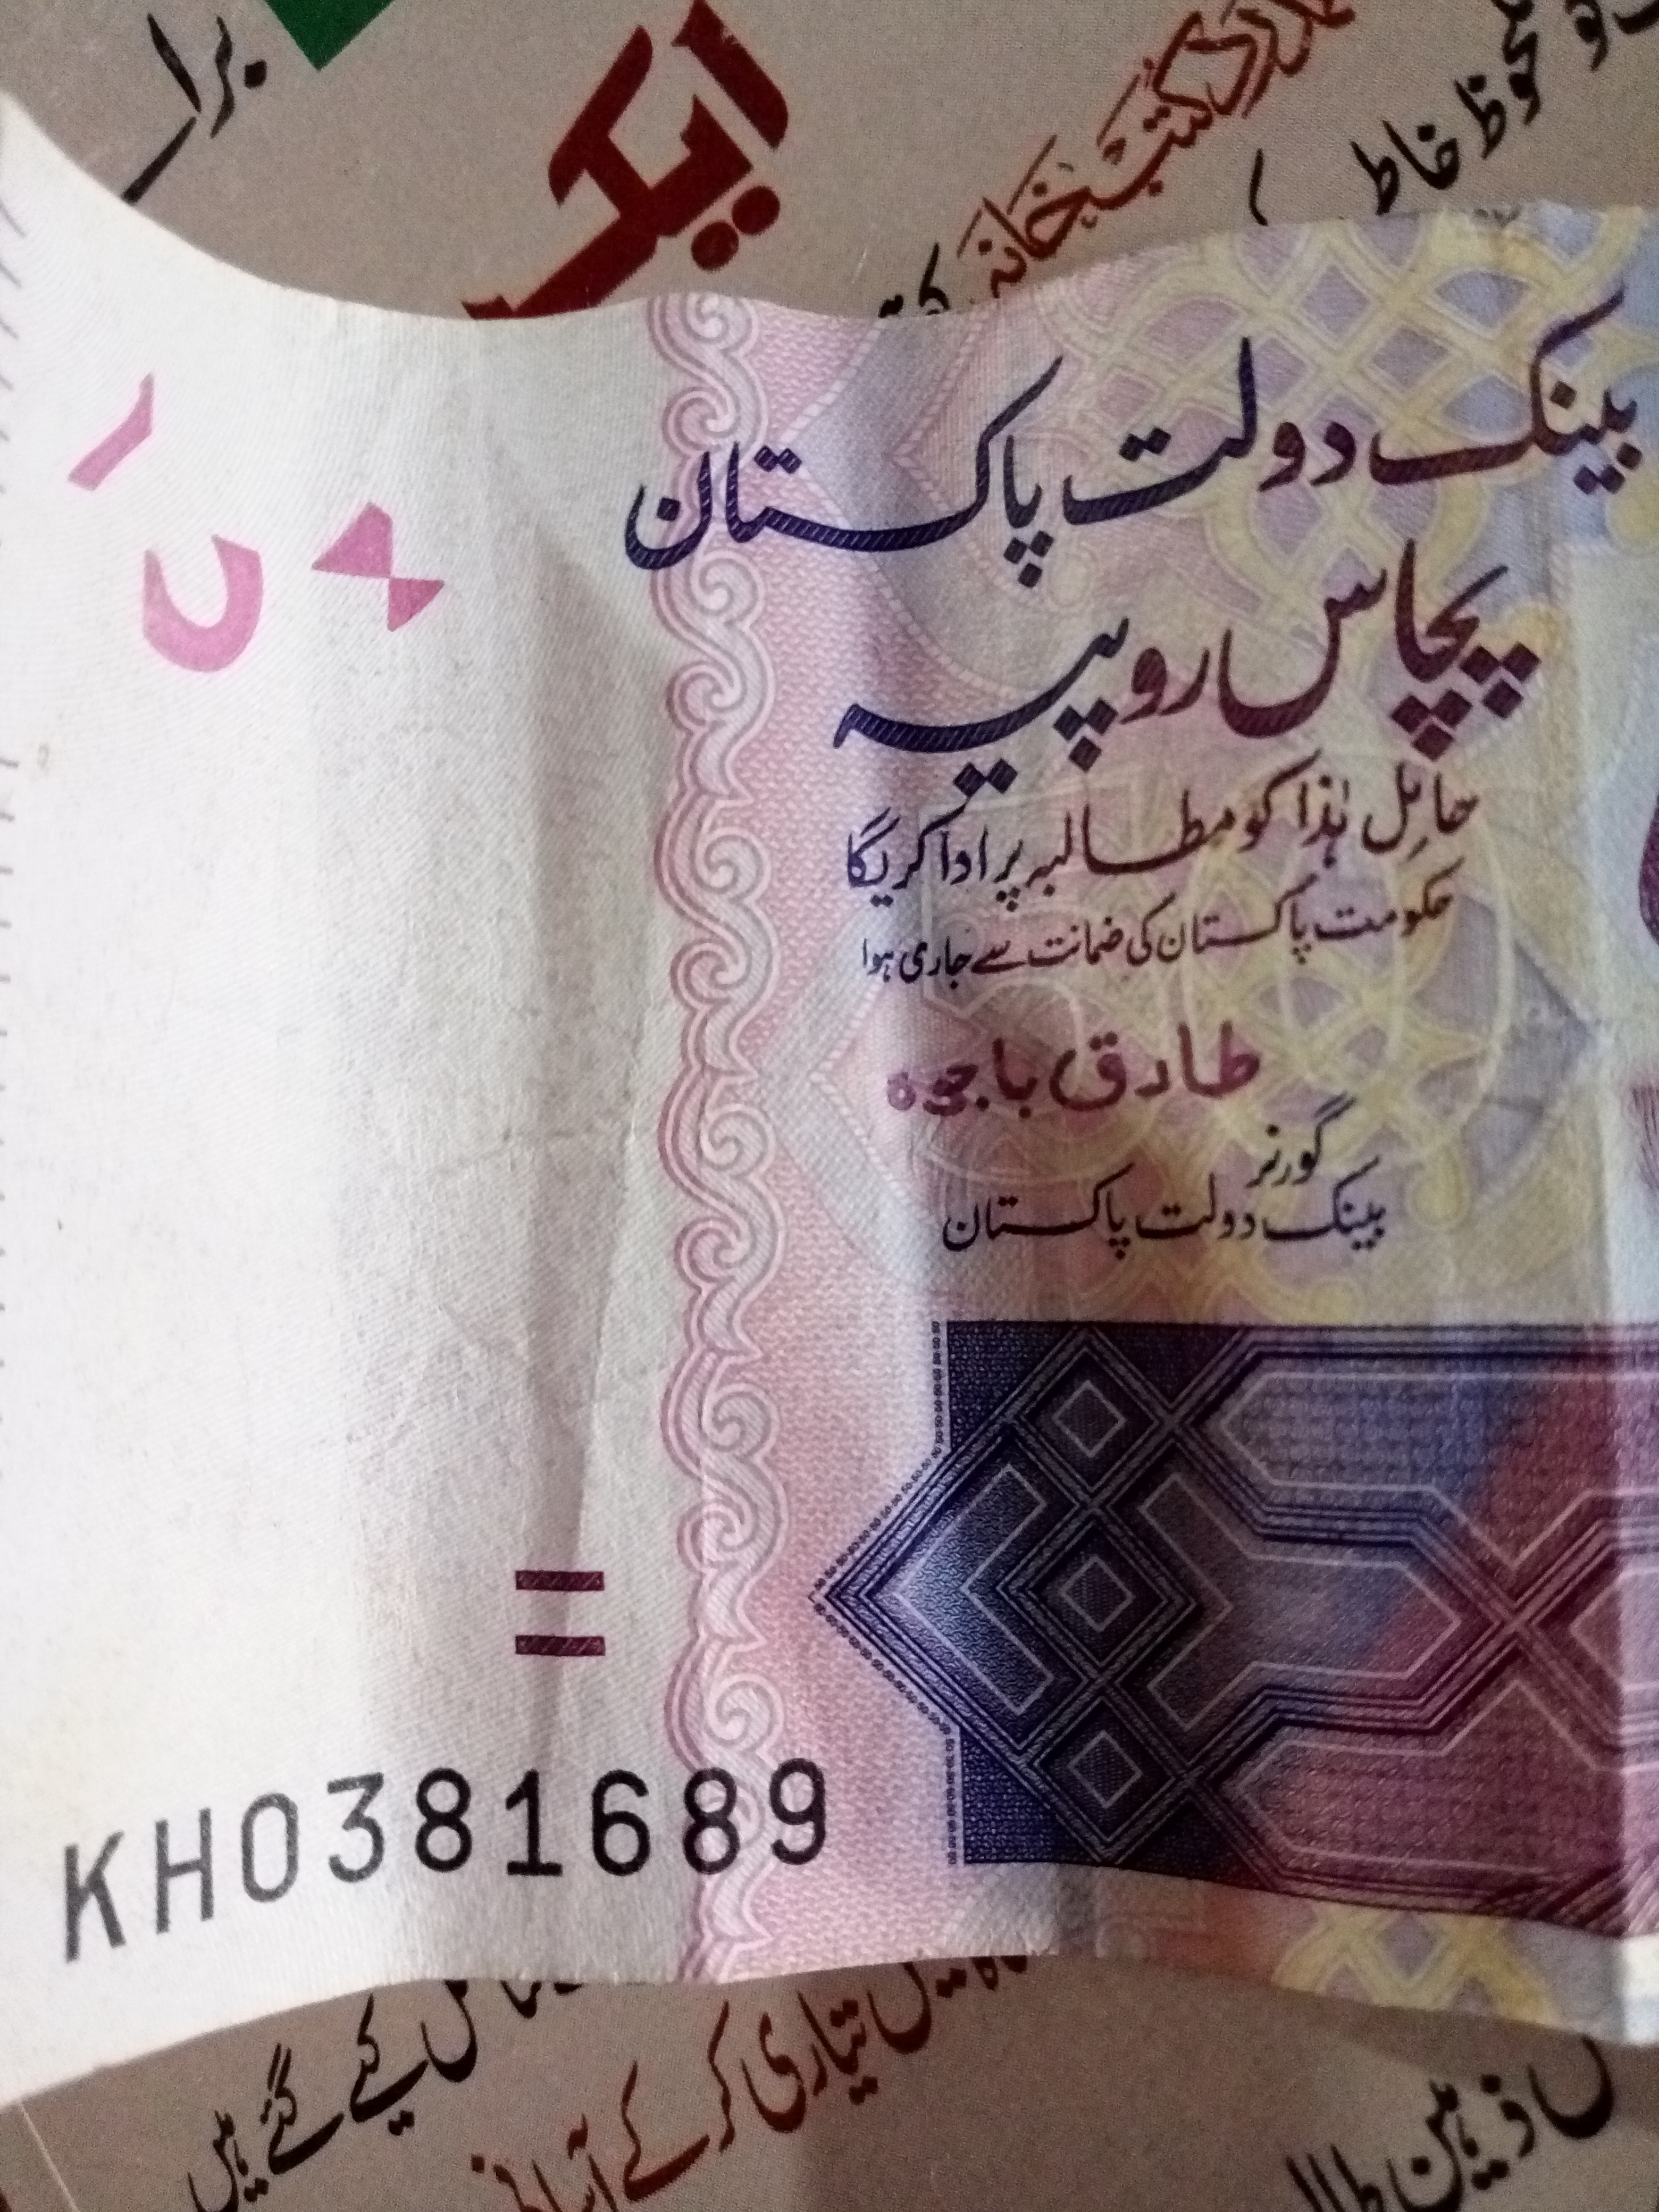50 rupee: (35, 47, 1649, 2104)
